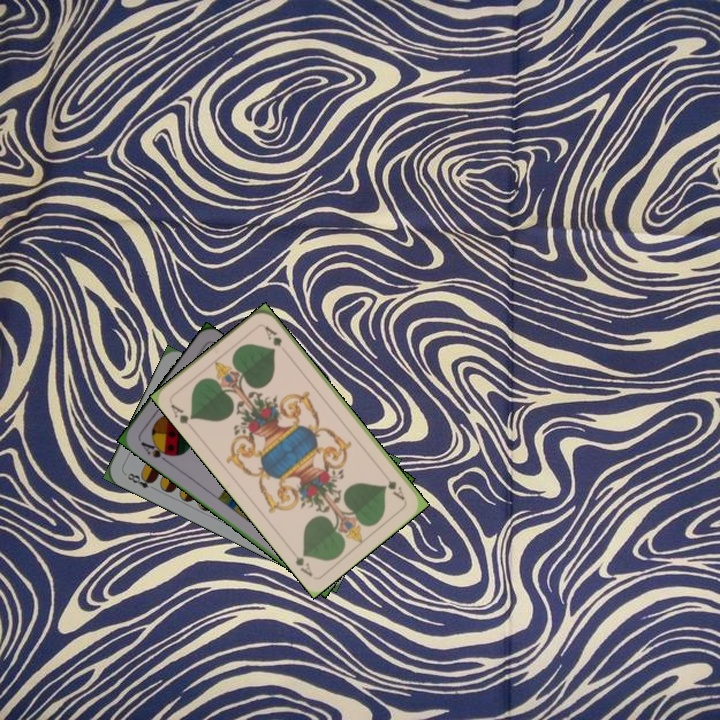E8: (121, 469, 159, 493)
GA: (166, 399, 197, 427), (384, 476, 408, 503)
SA: (137, 438, 174, 465)
